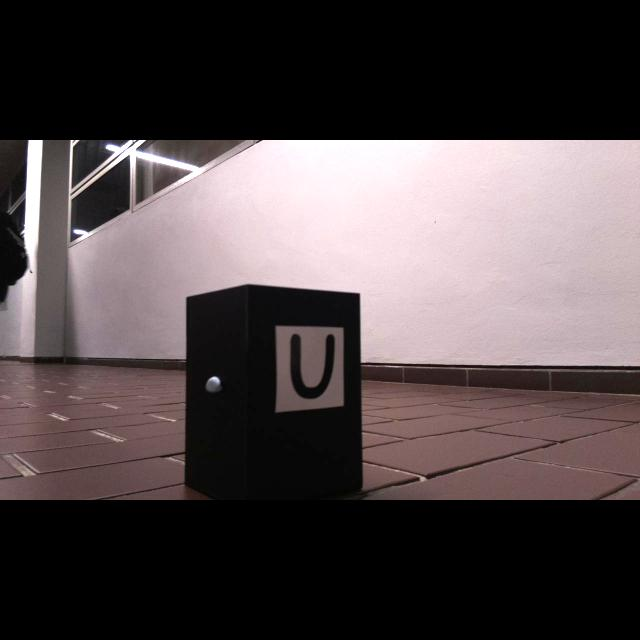U: (290, 334, 335, 399)
